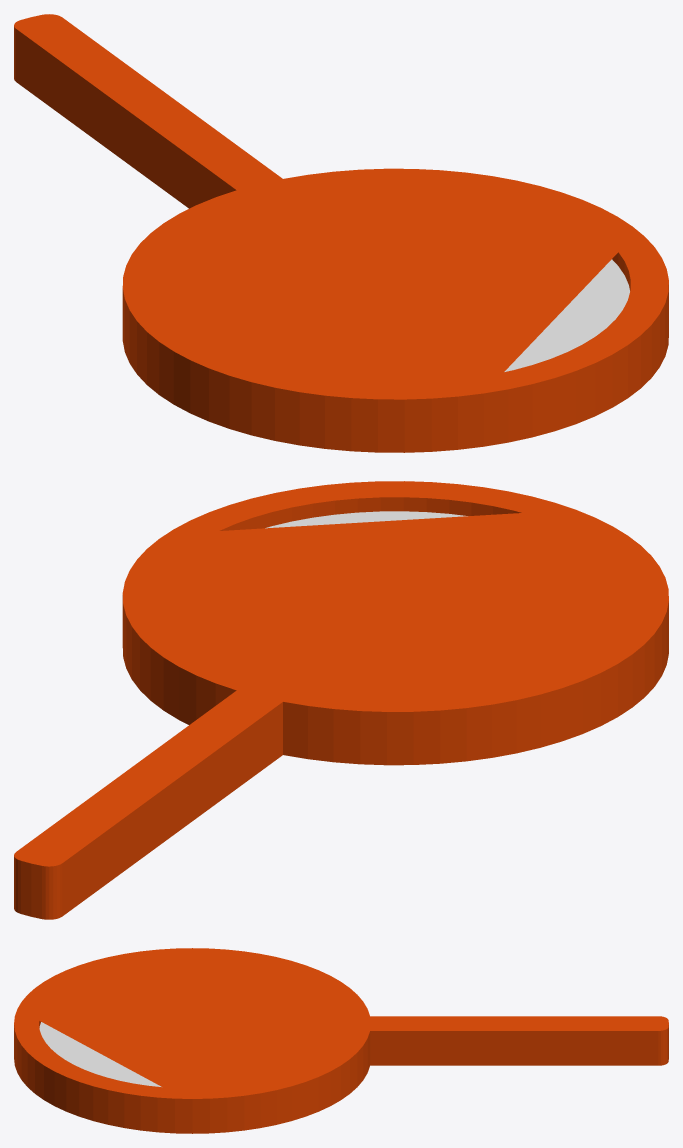
Rendered from MagnifyingGlass.fbx.
3 views of the same model, one above another, from view 1: azimuth 30°, elevation 25°; view 2: azimuth 150°, elevation 25°; view 3: azimuth 270°, elevation 25° (orthographic). The views are drawn at different scales.
Parts seen in each view (by area): view 1: Cylinder.001, Cylinder; view 2: Cylinder.001, Cylinder; view 3: Cylinder.001, Cylinder.
Boxes of the visible parts, bbox=[...] form: Cylinder.001: bbox=[14, 14, 668, 452]; Cylinder: bbox=[504, 259, 629, 371]; Cylinder.001: bbox=[14, 481, 668, 919]; Cylinder: bbox=[265, 511, 467, 528]; Cylinder.001: bbox=[14, 948, 668, 1133]; Cylinder: bbox=[39, 1022, 161, 1086].
Size of the model in its own units: 102 by 11 by 188.
